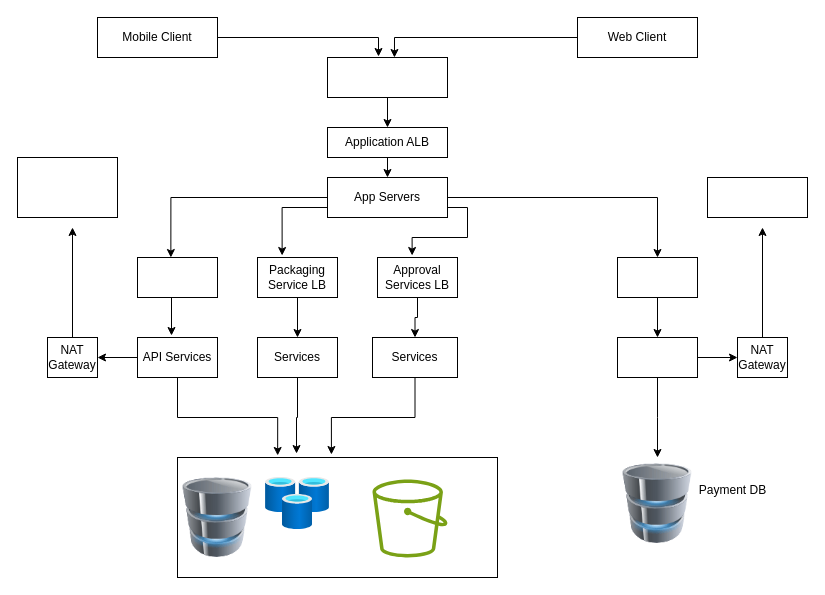
Image size: 825x595. Some labels were removed from this diagram. The shapes that lost their labels are listed below. From the top down, each one's centre as x and y in pixels, then its label:
At point (387, 77): "WAF".
At point (67, 187): "External Vendor (Flight & Hotel Aggregator)".
At point (757, 197): "Payment Gateways".
At point (177, 277): "API LB".
At point (657, 277): "Payment ALB".
At point (657, 357): "Payment Services".
